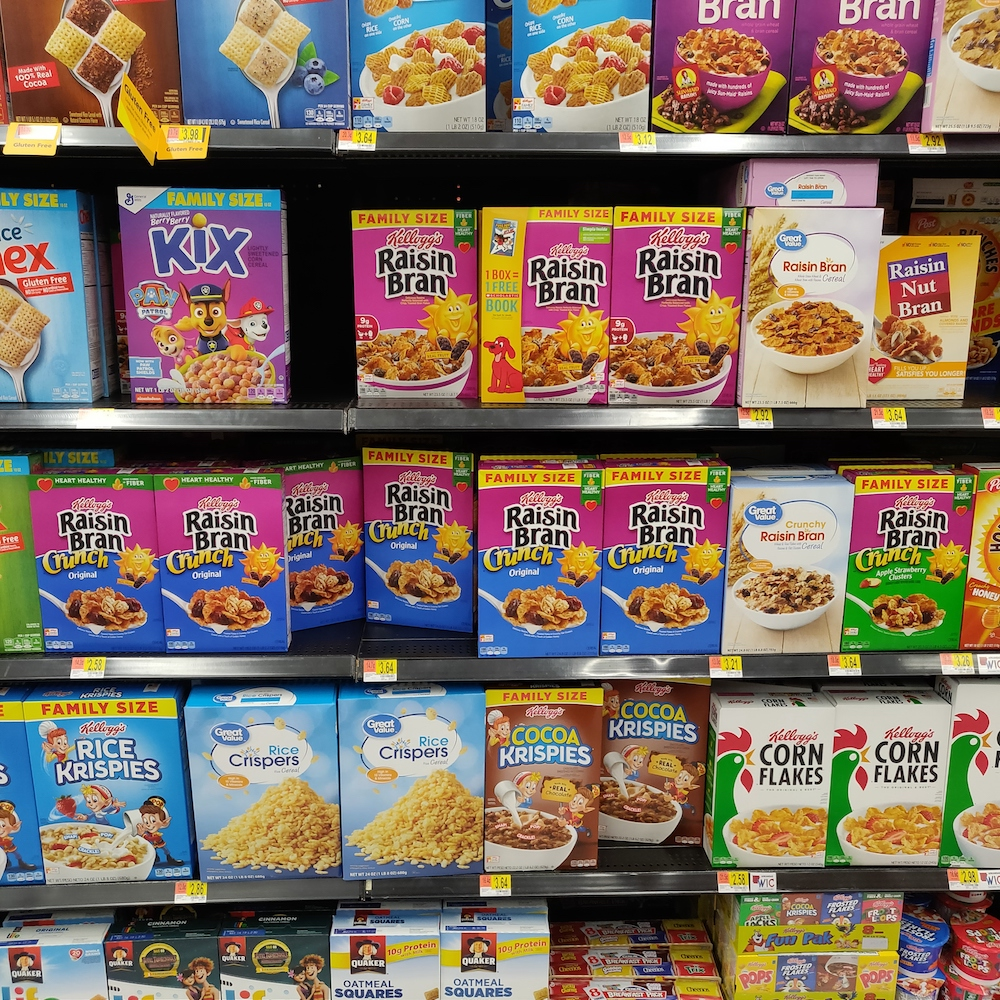Kix Berry -568919964: (121, 200, 288, 410)
